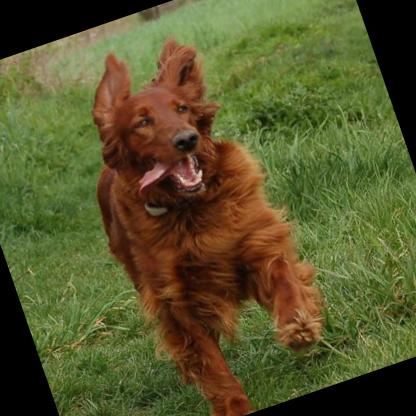Irish_setter: (45, 9, 351, 416)
